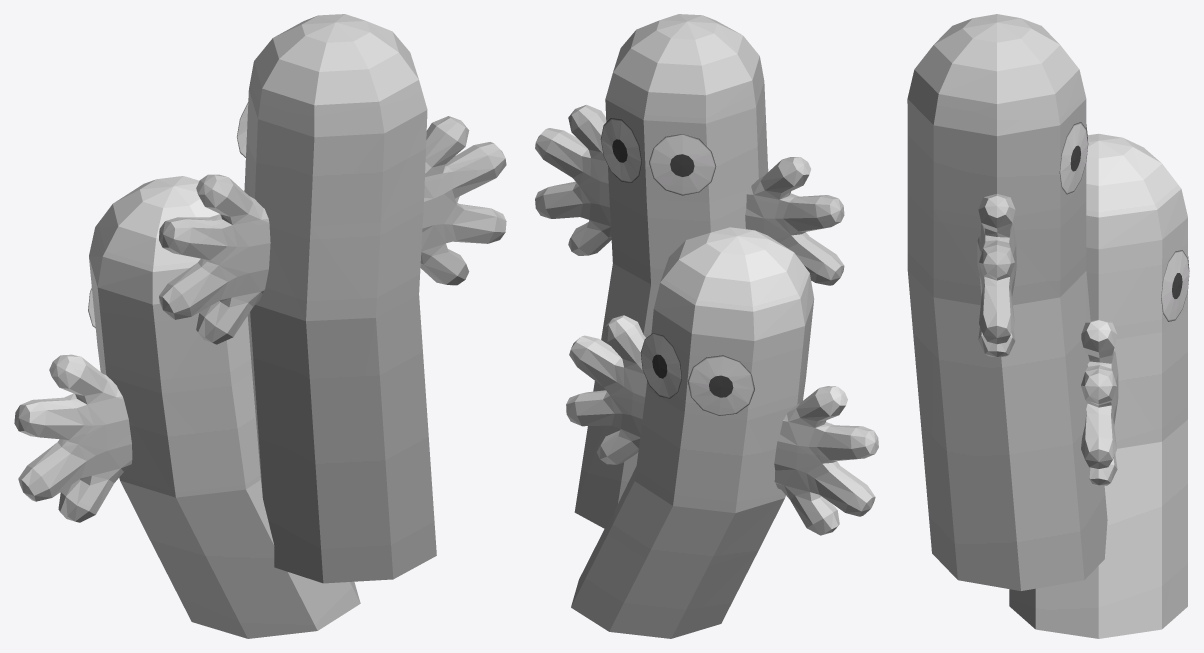
The model's file is CharSkyKid_Neck_AP24Arms.glb.
3 renders of one model, left to right at view 1: azimuth 30°, elevation 25°; view 2: azimuth 150°, elevation 25°; view 3: azimuth 270°, elevation 25°, orthographic. The views are drawn at different scales.
Parts seen in each view (by area): view 1: CharSkyKid_Neck_AP24Arms; view 2: CharSkyKid_Neck_AP24Arms; view 3: CharSkyKid_Neck_AP24Arms.
Part boxes in pixels (x1,y1,x2,y2): CharSkyKid_Neck_AP24Arms: (14,14,506,638); CharSkyKid_Neck_AP24Arms: (535,14,878,638); CharSkyKid_Neck_AP24Arms: (907,14,1189,638).
Bounding box in the file's own units: 1.64 × 2.23 × 0.9598.
1 material, 1 textured.
